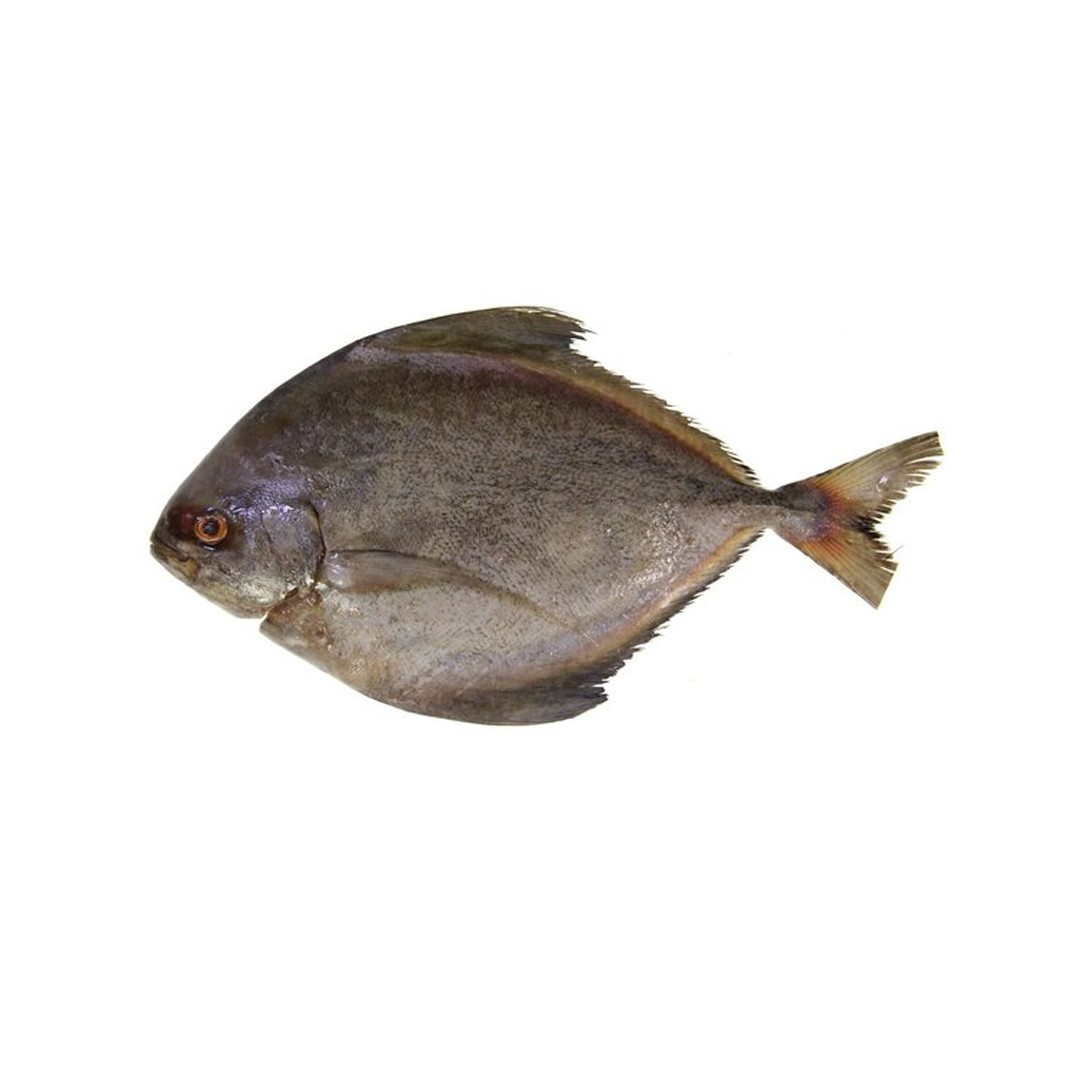Ikan Bawal: (123, 267, 984, 742)
